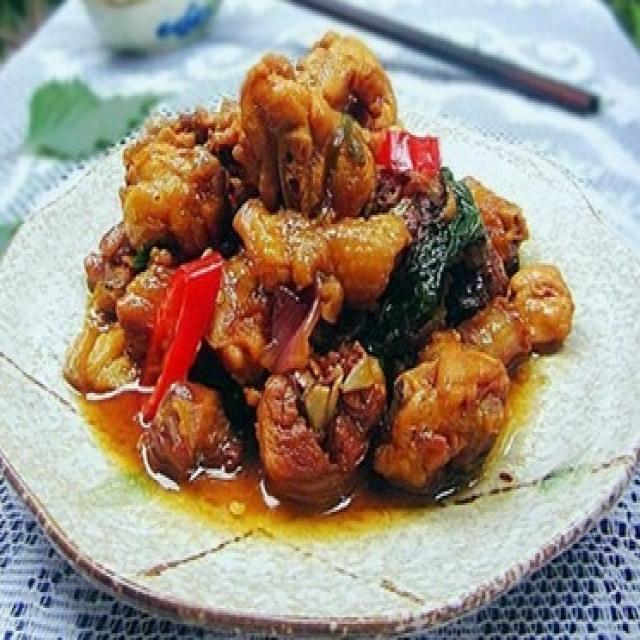鸡肉料理 含炸鸡: (27, 34, 616, 583)
